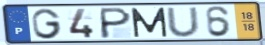4: (68, 7, 96, 39)
6: (203, 5, 231, 38)
G: (30, 7, 64, 40)
M: (129, 7, 170, 39)
P: (98, 6, 133, 40)
U: (165, 6, 202, 38)
